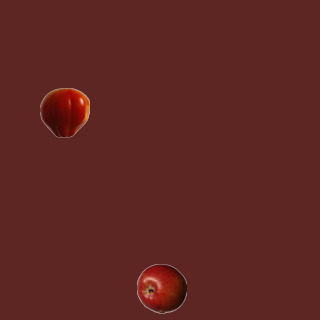Apple Braeburn: (136, 263, 186, 313)
Tomato 1: (39, 87, 89, 137)
